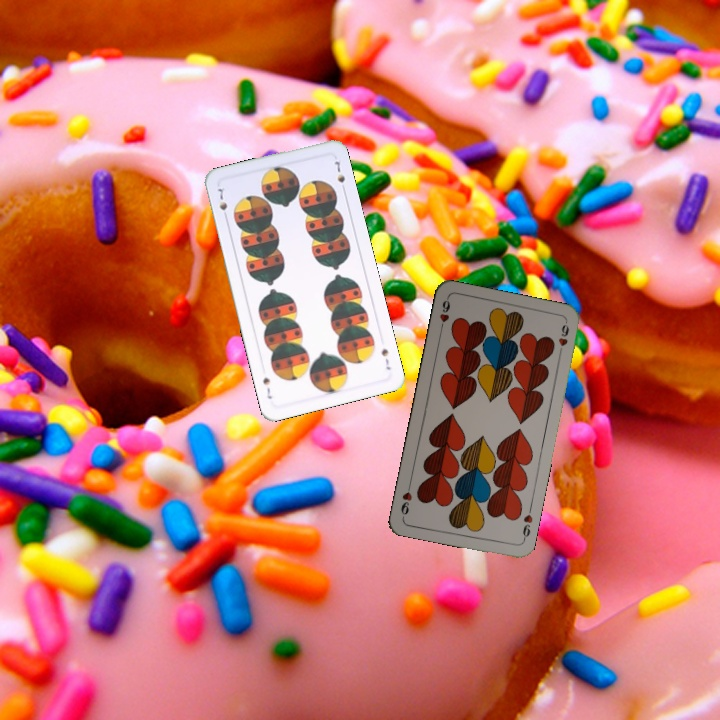H9: (436, 295, 453, 335), (518, 504, 535, 544)
S7: (214, 182, 230, 222), (377, 345, 393, 372)
